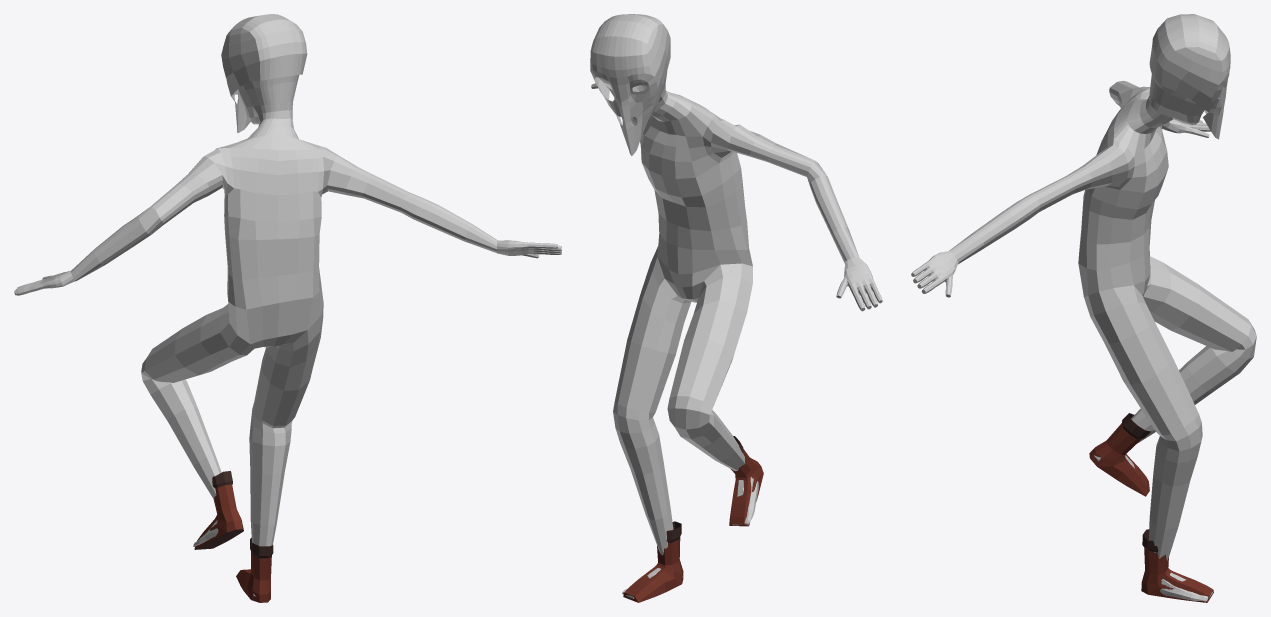
File: saltoadelante_000126.obj
3 renders of one model, left to right at view 1: azimuth 30°, elevation 25°; view 2: azimuth 150°, elevation 25°; view 3: azimuth 270°, elevation 25°, orthographic. The views are drawn at different scales.
Parts seen in each view (by area): view 1: Plane.002_Plane.001, Plane.004, Plane.003; view 2: Plane.002_Plane.001, Plane.003, Plane.004; view 3: Plane.002_Plane.001, Plane.004, Plane.003.
Boxes of the visible parts, <box> form: Plane.002_Plane.001: <box>14,14,561,596</box>; Plane.004: <box>194,471,243,549</box>; Plane.003: <box>236,537,273,602</box>; Plane.002_Plane.001: <box>590,14,882,598</box>; Plane.003: <box>623,521,683,602</box>; Plane.004: <box>729,436,763,526</box>; Plane.002_Plane.001: <box>911,14,1256,601</box>; Plane.004: <box>1089,413,1151,496</box>; Plane.003: <box>1141,529,1213,602</box>.
Bounding box in the file's own units: 5.18 × 6.69 × 3.6.
